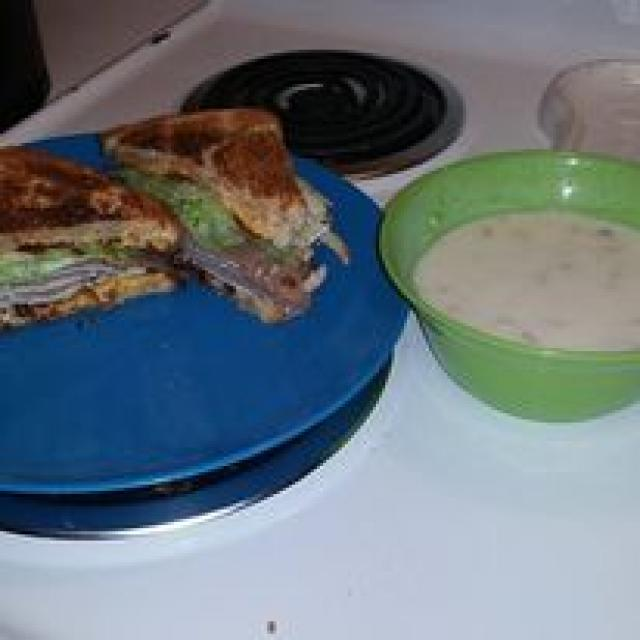Sandwich: (0, 82, 352, 362)
